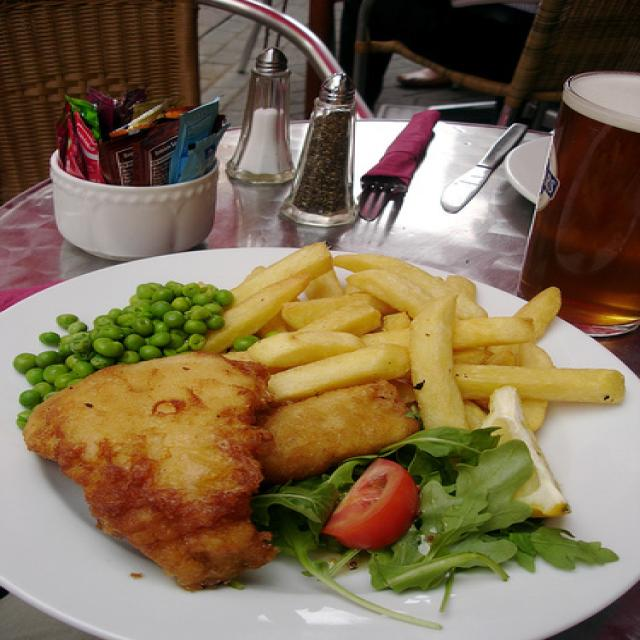炸货点心: (17, 328, 381, 576), (203, 241, 623, 440)
熟制海鲜: (17, 328, 381, 576)
